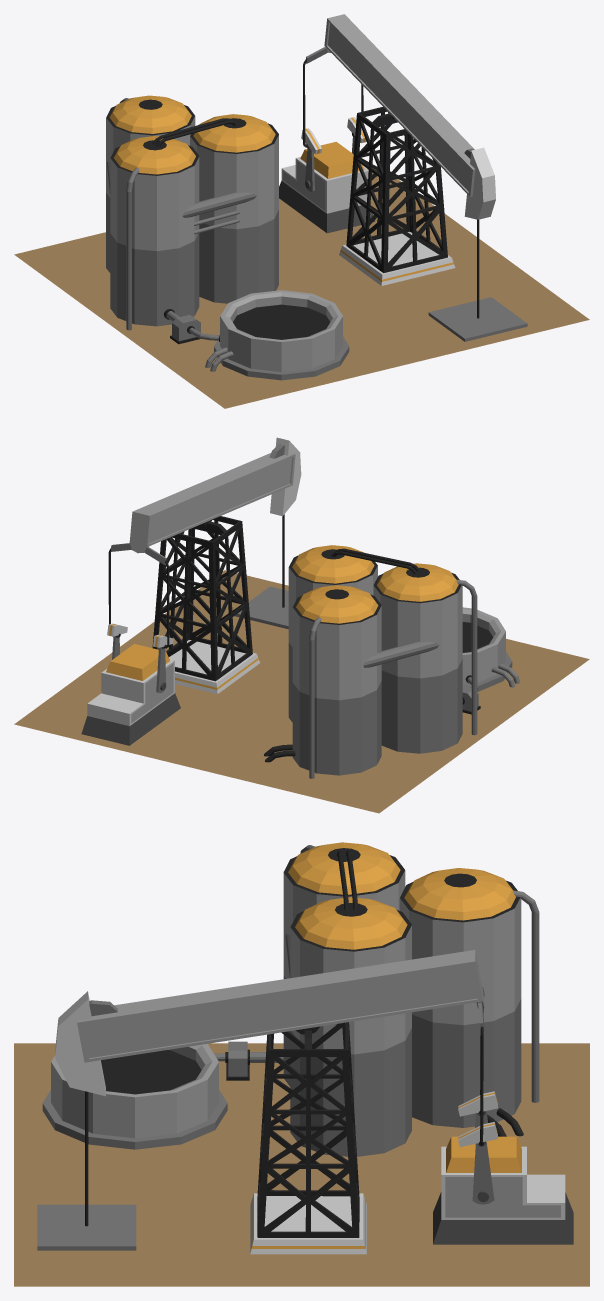
File: Oil_Refinery.fbx
3 views of the same model, one above another, from view 1: azimuth 30°, elevation 25°; view 2: azimuth 150°, elevation 25°; view 3: azimuth 270°, elevation 25° (orthographic). The views are drawn at different scales.
Parts seen in each view (by area): view 1: Plane, Cylinder.001, Cylinder.002, Cube.006, Cylinder.041, Cube.013, Cube, Cylinder.027, Cube.009, Cube.019, Cylinder.032, Cylinder.034 (+2 smaller); view 2: Plane, Cylinder.027, Cylinder.001, Cube.006, Cube.013, Cube, Cylinder.002, Cylinder.041, Cube.009, Cube.019, Cylinder.034, Cylinder.032 (+2 smaller); view 3: Plane, Cylinder.027, Cube.013, Cylinder.002, Cylinder.041, Cube.006, Cube, Cylinder.001, Cube.009, Cube.019, Cylinder.032, Cylinder.035 (+4 smaller).
Boxes of the visible parts, <box> form: Plane: <box>14,166,589,408</box>; Cylinder.001: <box>110,136,199,326</box>; Cylinder.002: <box>190,114,278,303</box>; Cube.006: <box>346,107,447,272</box>; Cylinder.041: <box>214,290,349,380</box>; Cube.013: <box>324,14,475,196</box>; Cube: <box>279,141,375,233</box>; Cylinder.027: <box>106,95,195,272</box>; Cube.009: <box>339,231,455,285</box>; Cube.019: <box>428,297,527,341</box>; Cylinder.032: <box>464,147,495,219</box>; Cylinder.034: <box>126,168,139,330</box>; Plane: <box>14,570,589,813</box>; Cylinder.027: <box>292,585,381,775</box>; Cylinder.001: <box>373,563,462,753</box>; Cube.006: <box>152,516,252,681</box>; Cube.013: <box>129,453,295,546</box>; Cube: <box>81,644,180,745</box>; Cylinder.002: <box>288,545,377,722</box>; Cylinder.041: <box>462,607,512,691</box>; Cube.009: <box>169,640,259,694</box>; Cube.019: <box>234,586,288,629</box>; Cylinder.034: <box>456,579,477,735</box>; Cylinder.032: <box>270,437,301,516</box>; Plane: <box>14,1043,589,1286</box>; Cylinder.027: <box>399,868,521,1127</box>; Cube.013: <box>77,950,482,1062</box>; Cylinder.002: <box>290,897,411,1156</box>; Cylinder.041: <box>42,1044,227,1149</box>; Cube.006: <box>257,1022,359,1237</box>; Cube: <box>433,1136,573,1244</box>; Cylinder.001: <box>283,842,405,1086</box>; Cube.009: <box>250,1193,366,1254</box>; Cube.019: <box>37,1204,136,1250</box>; Cylinder.032: <box>55,991,105,1096</box>; Cylinder.035: <box>513,890,539,1102</box>.
Size of the model in its own units: 1339 by 714 by 1339.
